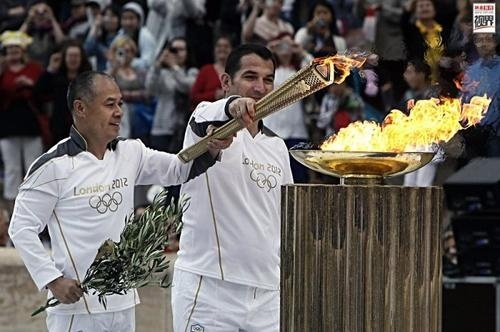fire: (319, 95, 491, 152), (317, 51, 368, 81), (417, 18, 444, 59)
